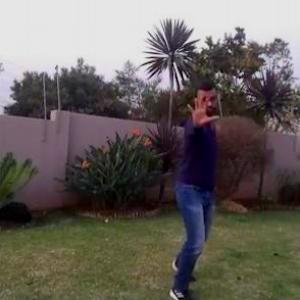follow_hand: (183, 90, 222, 132)
